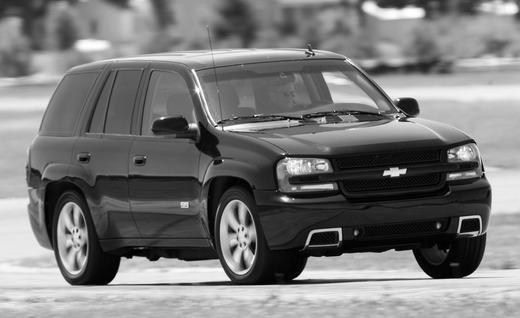car: (26, 26, 494, 286)
